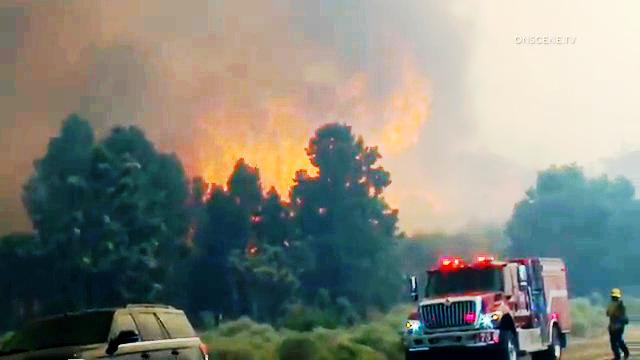fire: (199, 104, 315, 189), (376, 57, 436, 168)
smoke: (12, 2, 333, 102)
